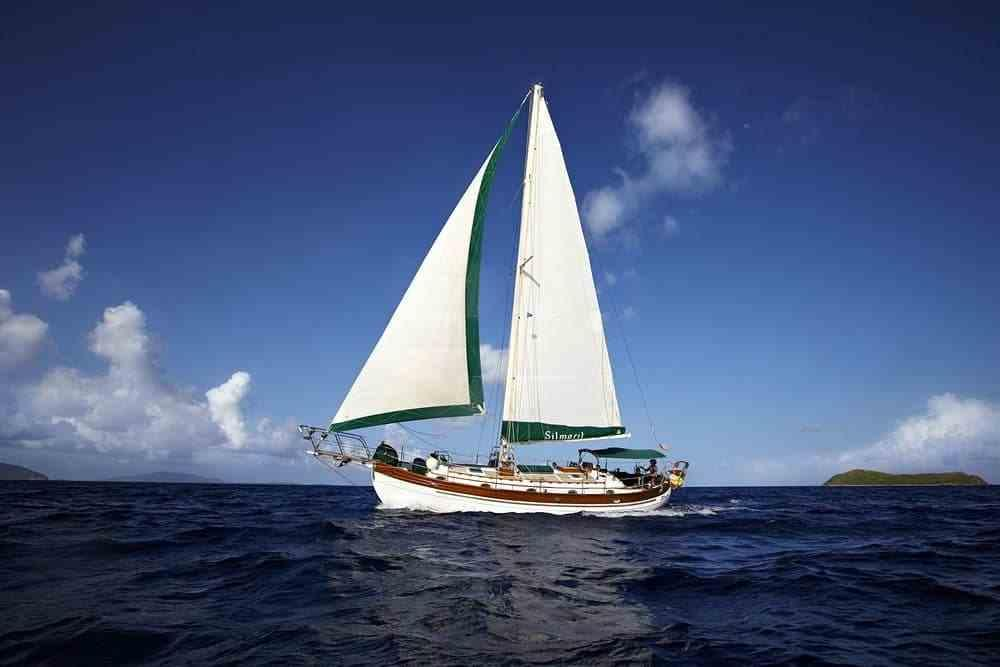fanchuan: (295, 82, 684, 524)
